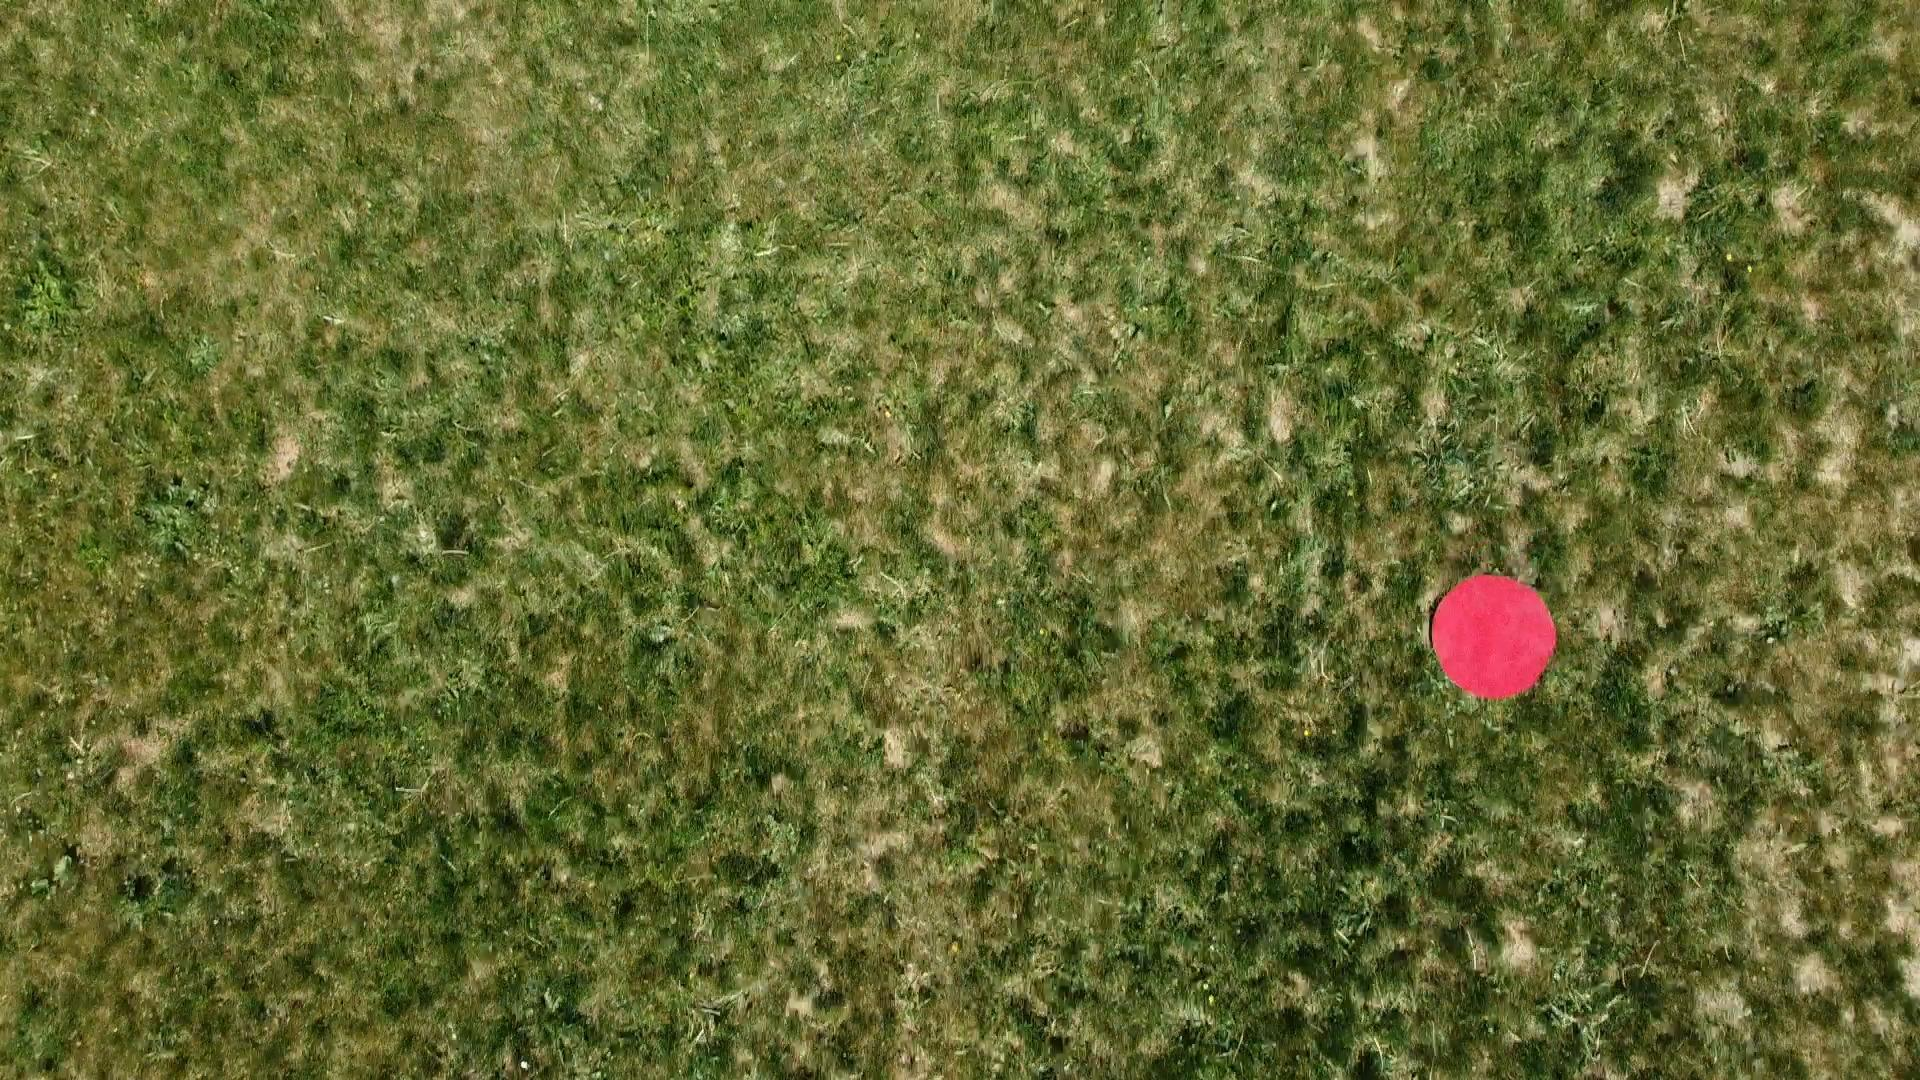Red: (1425, 571, 1563, 702)
